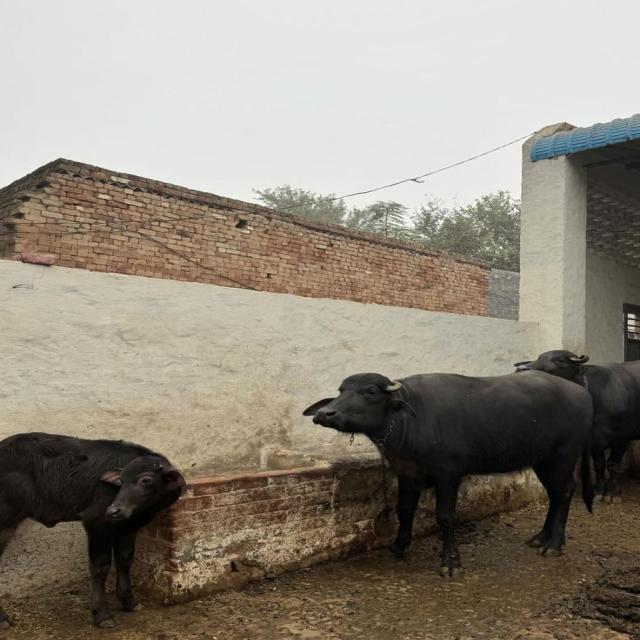Buffalo: (301, 370, 596, 580), (0, 430, 187, 629), (512, 349, 639, 506)
